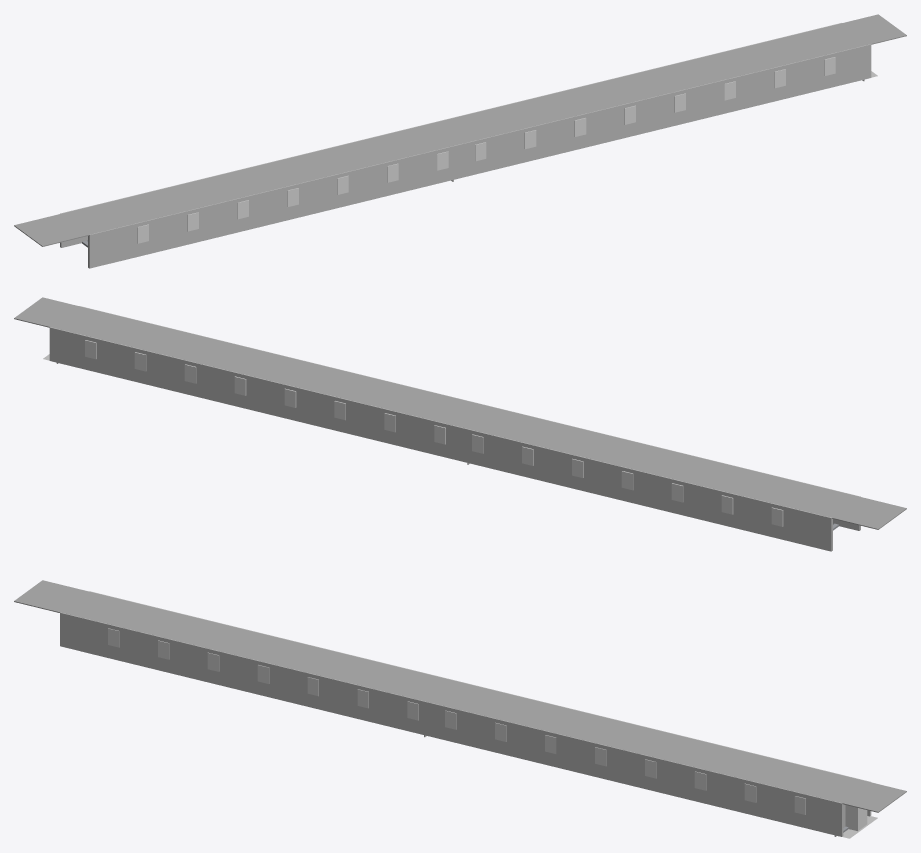
The model's file is corridorV01.fbx.
The picture shows the model from 3 angles, top to bottom: view 1: azimuth 30°, elevation 25°; view 2: azimuth 150°, elevation 25°; view 3: azimuth 330°, elevation 25°; orthographic projection.
Visible parts, largest first — view 1: Plane.001, Cube.005, Cube.026, Cube.006; view 2: Plane.001, Cube.006, Cube.014, Cube.005; view 3: Plane.001, Cube.005, Cube.026, Cube.006.
Part boxes in pixels (x1,y1,x2,y2): Plane.001: [14, 14, 906, 246]; Cube.005: [88, 44, 871, 268]; Cube.026: [137, 57, 835, 243]; Cube.006: [60, 23, 841, 247]; Plane.001: [14, 297, 906, 529]; Cube.006: [49, 327, 832, 551]; Cube.014: [85, 340, 783, 526]; Cube.005: [79, 306, 860, 530]; Plane.001: [14, 580, 906, 812]; Cube.005: [60, 612, 843, 836]; Cube.026: [108, 628, 805, 814]; Cube.006: [89, 591, 871, 816].
Bounding box in the file's own units: 6925 × 274 × 421.
